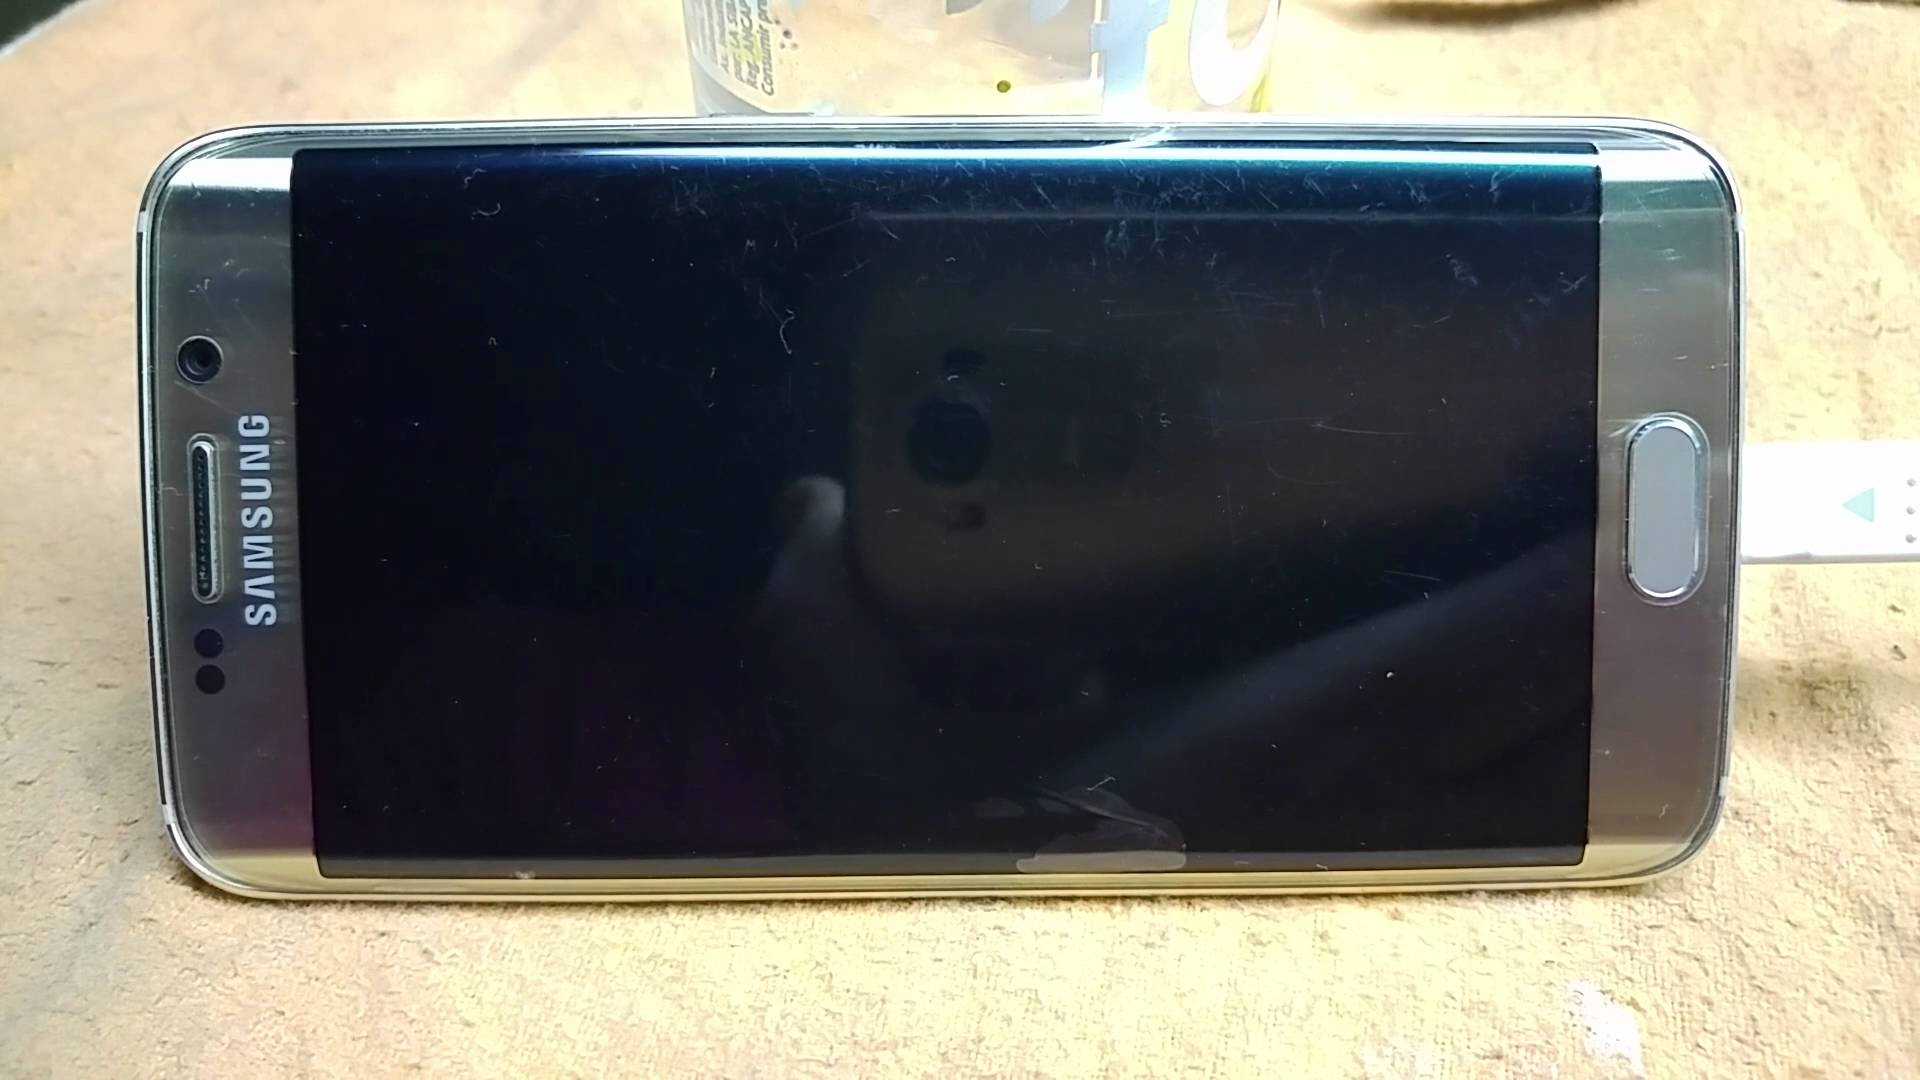smartphone: (135, 113, 1747, 905)
